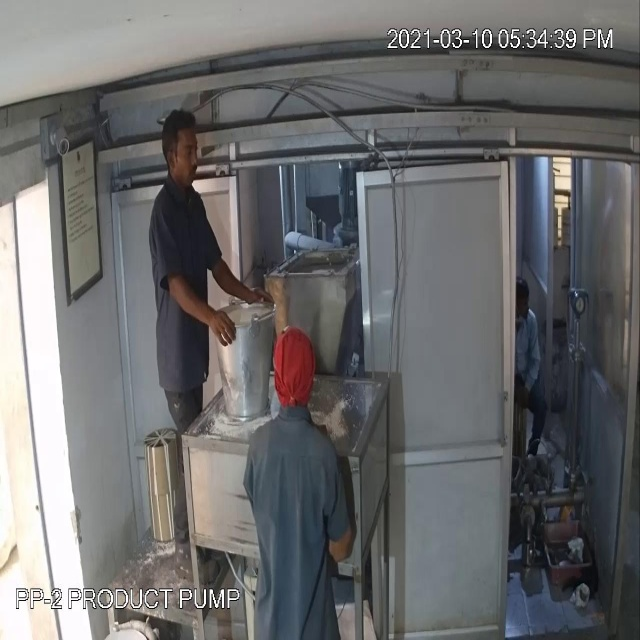Sin_guantes: (165, 267, 239, 362), (203, 231, 274, 317)
